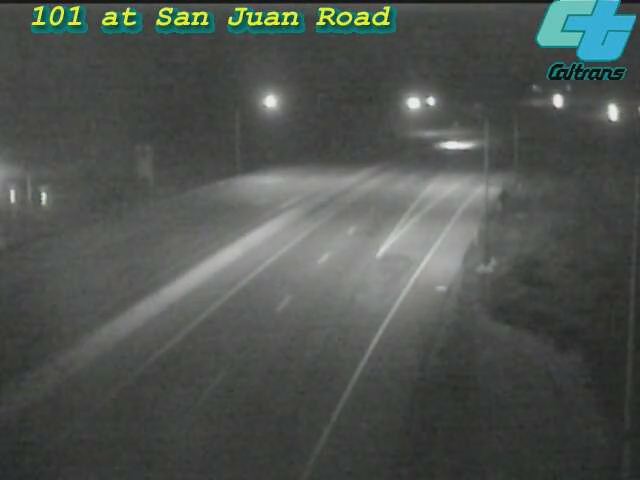vehicle: (431, 121, 481, 171), (588, 89, 638, 139)
